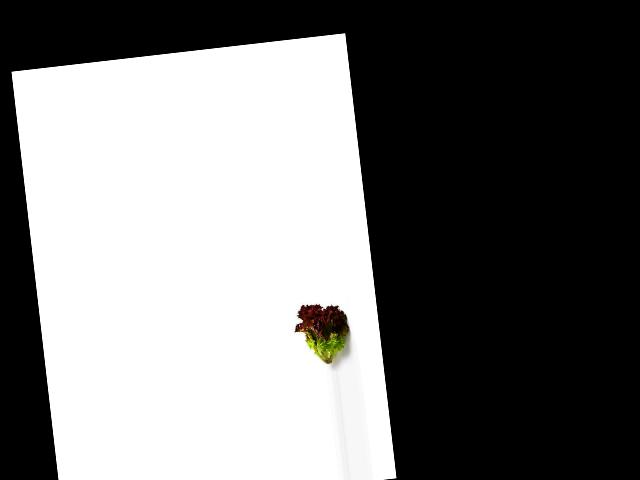lettuce: (293, 297, 354, 374)
